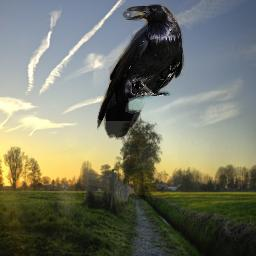Crow: (97, 4, 185, 140)
